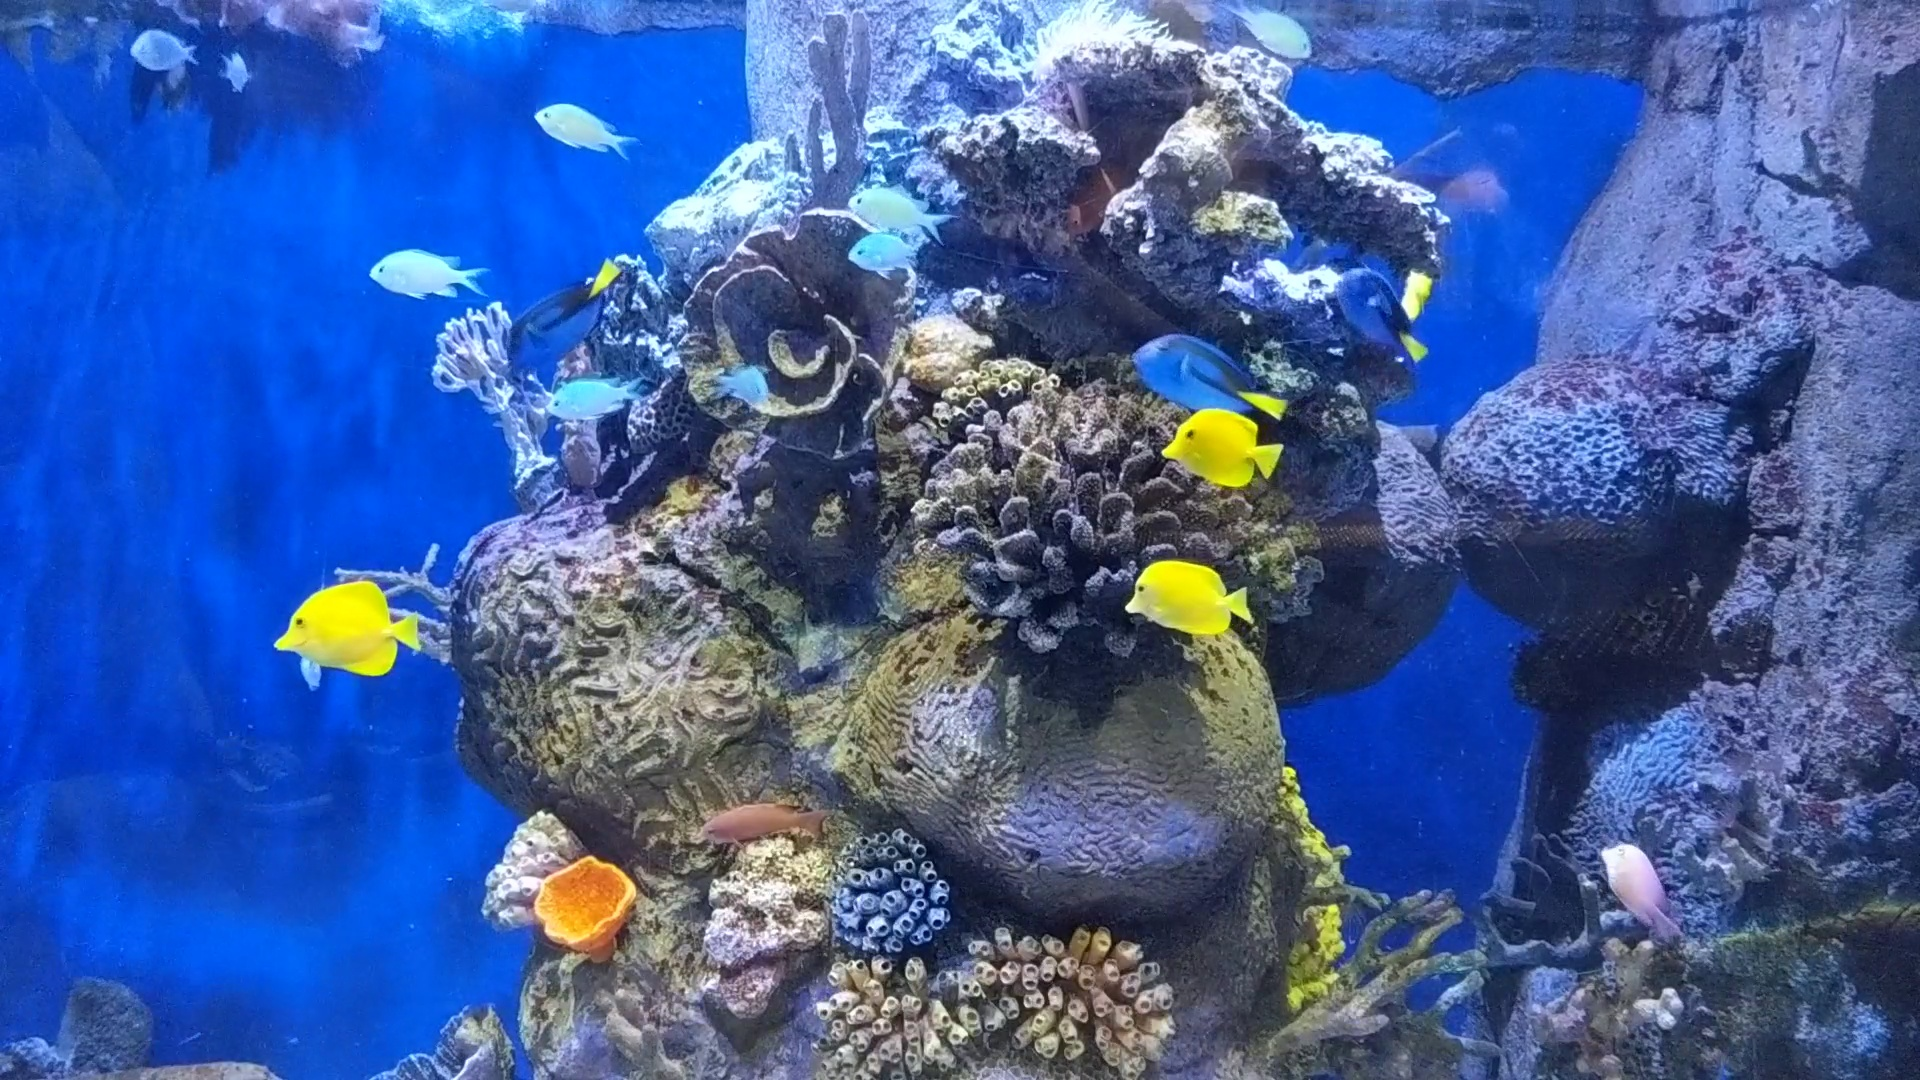blue tang surgeonfish: (491, 253, 634, 386), (1125, 326, 1294, 418), (1327, 255, 1440, 372)
damselfish: (357, 235, 491, 306), (526, 95, 647, 171), (835, 169, 942, 237), (522, 367, 647, 425), (1222, 1, 1320, 67), (835, 215, 927, 280), (705, 352, 773, 419), (119, 26, 196, 83), (214, 53, 258, 102)
pink fish: (1596, 837, 1698, 949)
saddle butterfly fish: (258, 580, 436, 686), (1149, 394, 1296, 492), (1120, 550, 1261, 647)
